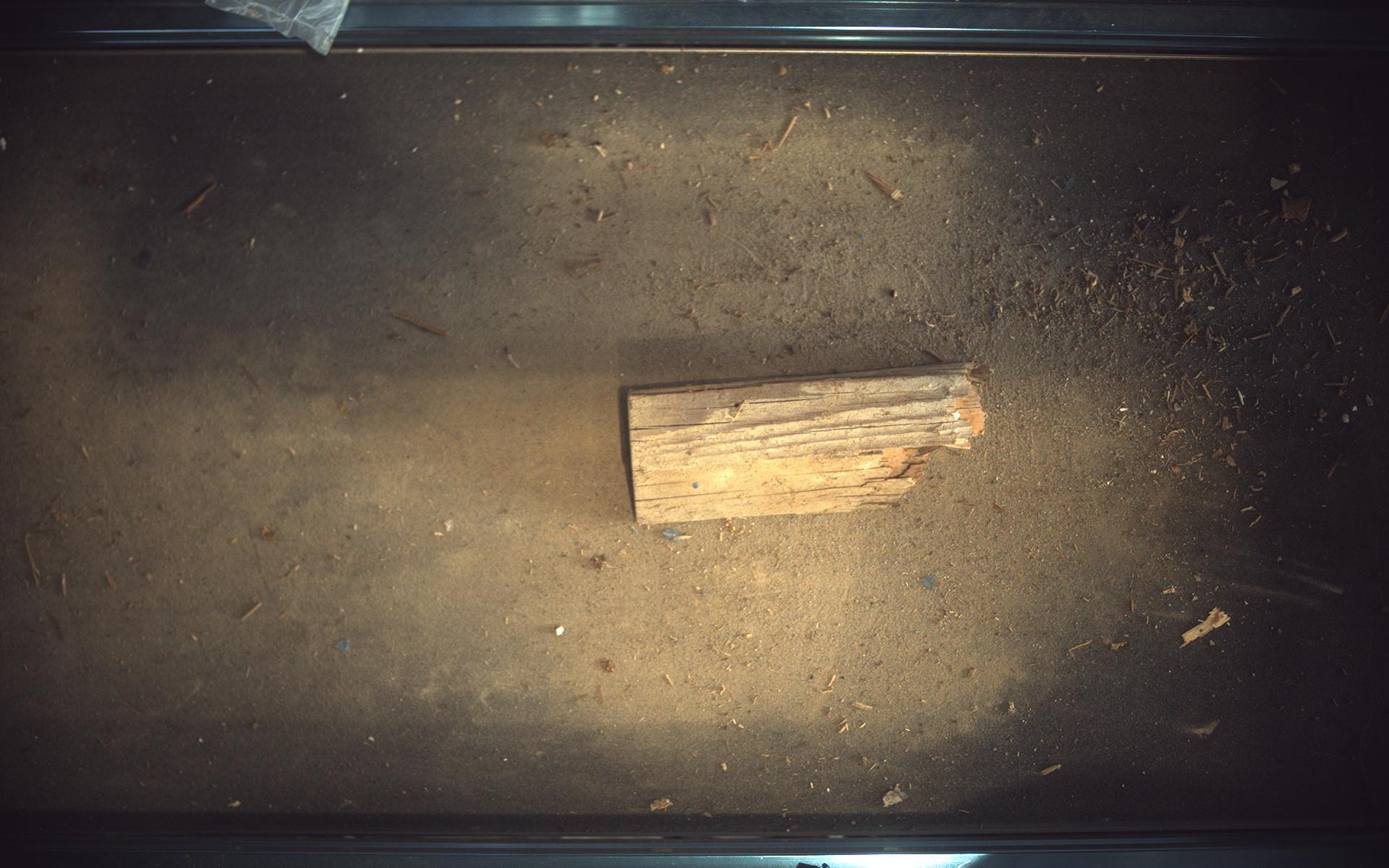wood: (628, 363, 990, 526)
